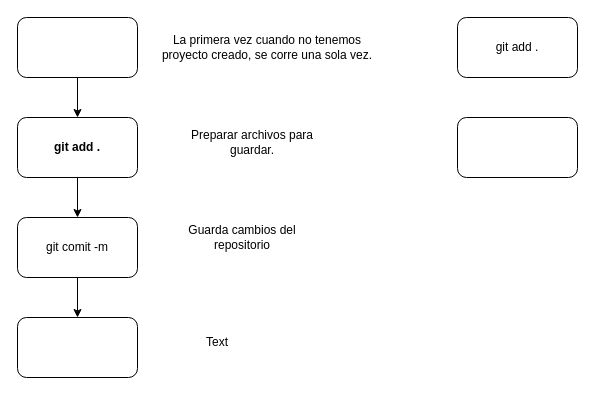
Image size: 595x395. Some labels were removed from this diagram. Each missing label, with the centre of its shape:
git branch: point 77,347
Git init: point 77,47
